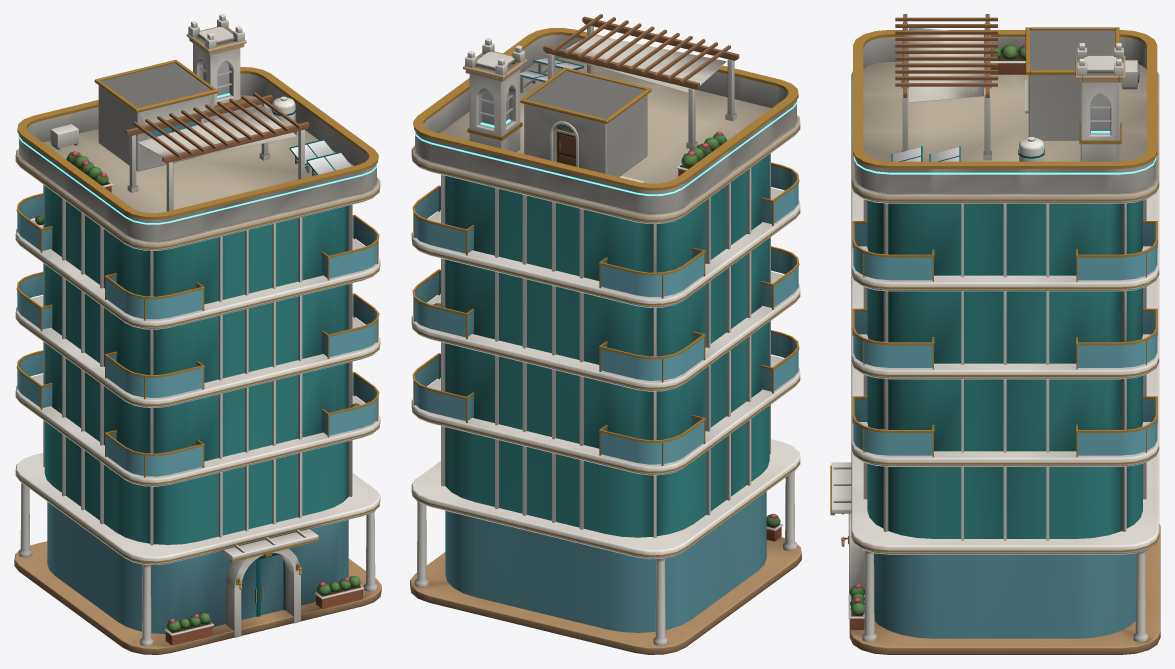
File: bldg_tower.fbx
3 renders of one model, left to right at view 1: azimuth 30°, elevation 25°; view 2: azimuth 150°, elevation 25°; view 3: azimuth 270°, elevation 25°, orthographic. The views are drawn at different scales.
Visible parts, largest first — view 1: bldg_tower; view 2: bldg_tower; view 3: bldg_tower.
Boxes of the visible parts, x1=… form: bldg_tower: x1=14, y1=14, x2=381, y2=654; bldg_tower: x1=410, y1=14, x2=801, y2=654; bldg_tower: x1=830, y1=14, x2=1160, y2=654.
Size of the model in its own units: 11.2 by 21.35 by 11.26.
